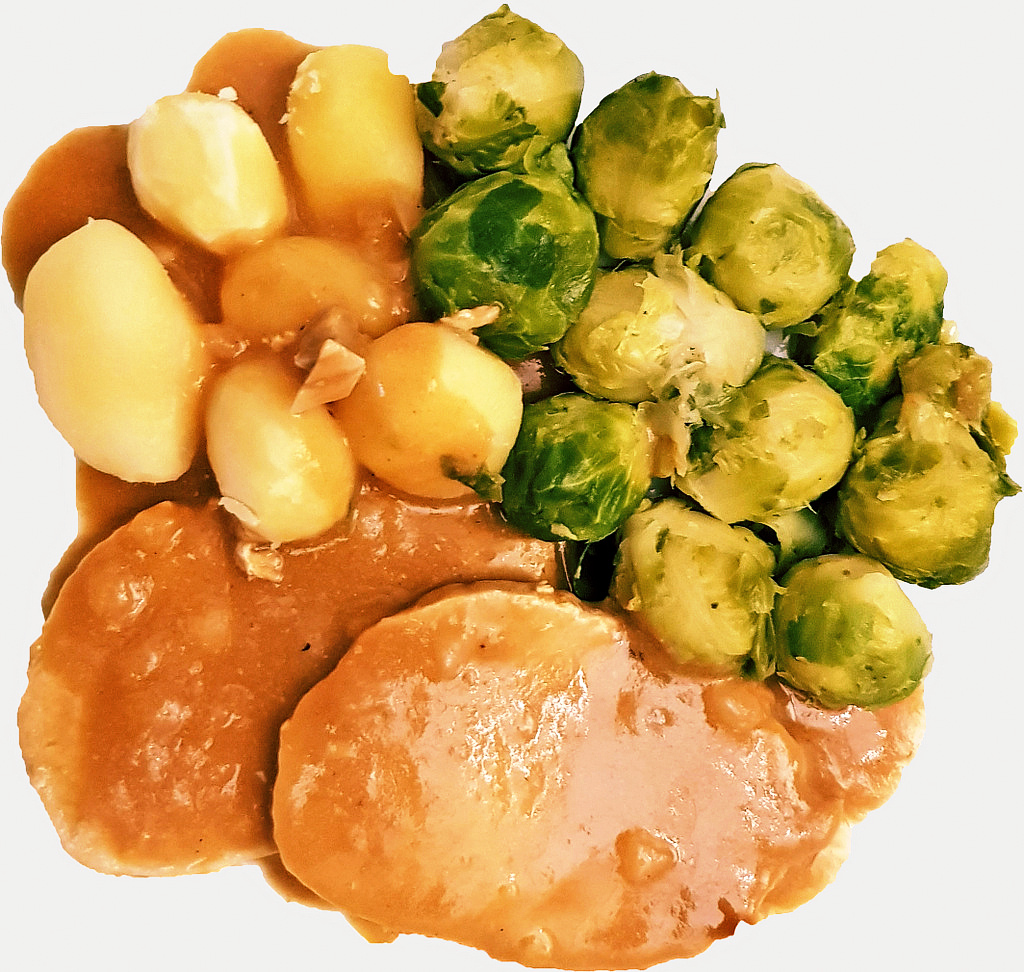boiled potatoes: (17, 225, 204, 504), (275, 57, 437, 259), (345, 328, 528, 503), (212, 362, 353, 546), (147, 116, 303, 256)
